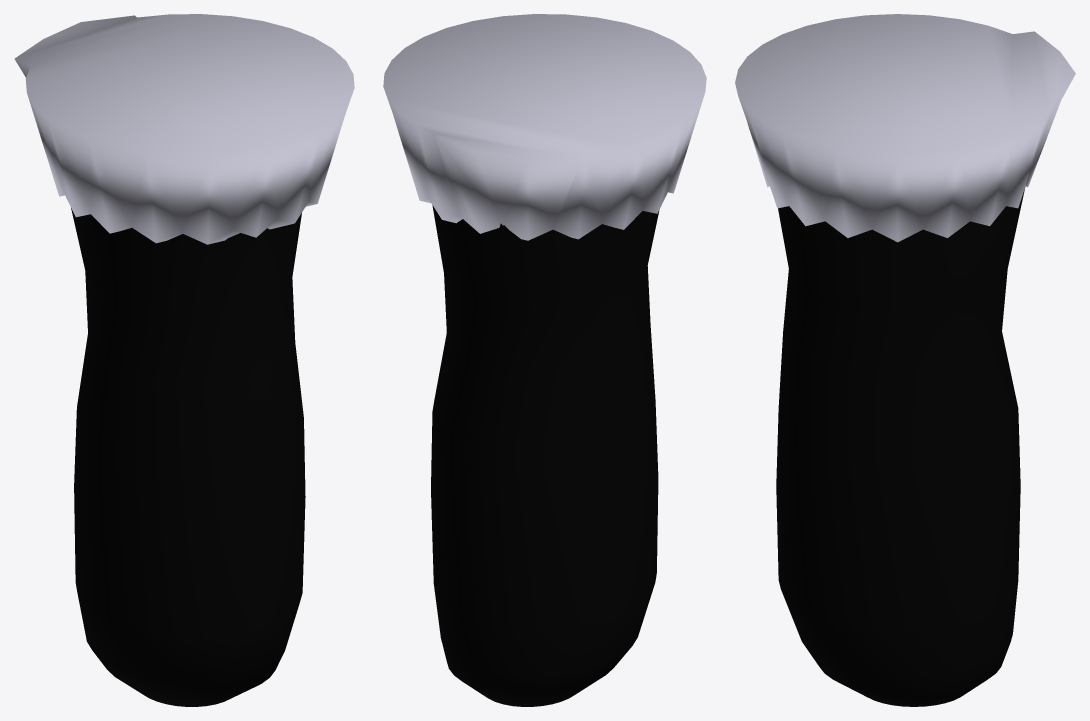
The model's file is rhand.gltf.
The picture shows the model from 3 angles, left to right: view 1: azimuth 30°, elevation 25°; view 2: azimuth 150°, elevation 25°; view 3: azimuth 270°, elevation 25°; orthographic projection.
Visible parts, largest first — view 1: lengan.008, Cylinder.004; view 2: lengan.008, Cylinder.004; view 3: lengan.008, Cylinder.004.
Part boxes in pixels (x1,y1,x2,y2): lengan.008: [71, 208, 305, 706]; Cylinder.004: [14, 14, 354, 244]; lengan.008: [431, 205, 659, 706]; Cylinder.004: [383, 14, 706, 240]; lengan.008: [776, 189, 1024, 706]; Cylinder.004: [735, 14, 1075, 242].
Bounding box in the file's own units: 0.1092 × 0.2262 × 0.1144.
2 materials, 2 textured.
